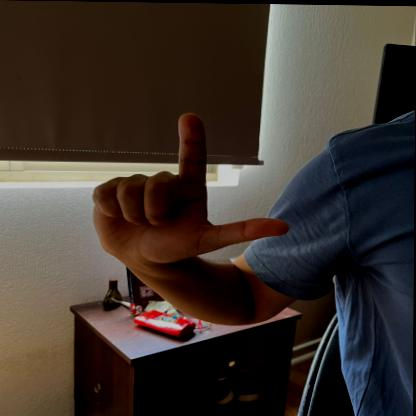L: (88, 107, 290, 264)
